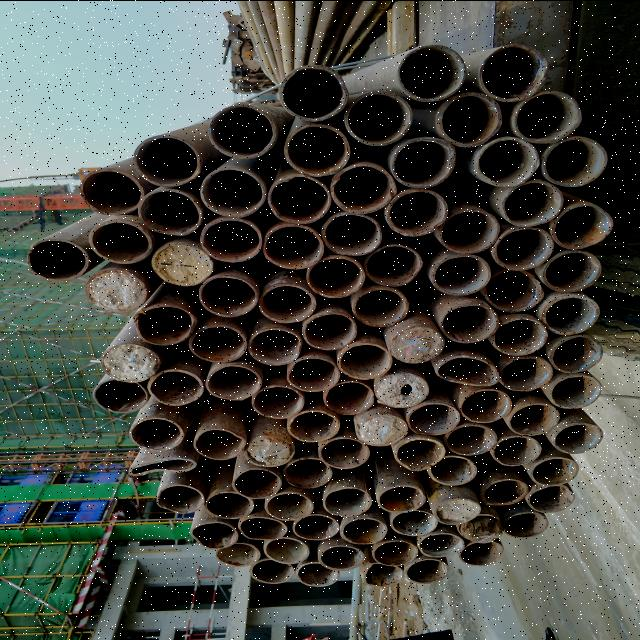pipe: (203, 101, 280, 157), (480, 41, 550, 102), (344, 90, 417, 146), (395, 44, 467, 98), (279, 62, 348, 118), (510, 90, 580, 144), (472, 133, 542, 187), (391, 133, 457, 190), (435, 92, 502, 147), (281, 122, 351, 174), (132, 132, 198, 186), (266, 172, 332, 224), (542, 134, 608, 186), (331, 162, 395, 214), (552, 200, 616, 250), (534, 253, 608, 295), (502, 176, 561, 228), (435, 209, 501, 255), (203, 167, 266, 214), (384, 187, 444, 236), (152, 242, 214, 288), (81, 168, 142, 214), (432, 251, 494, 296), (262, 224, 325, 268), (201, 217, 263, 261), (493, 224, 552, 270), (546, 328, 606, 373), (86, 266, 144, 312), (29, 238, 89, 282), (140, 188, 200, 232), (443, 298, 498, 345), (348, 286, 411, 326), (492, 316, 552, 358), (322, 212, 380, 255), (544, 370, 606, 410), (308, 253, 364, 297), (389, 322, 445, 366), (146, 366, 202, 410), (258, 282, 316, 324), (100, 341, 159, 382), (538, 294, 597, 334), (368, 243, 422, 286), (196, 274, 254, 314), (495, 355, 557, 392), (248, 323, 302, 365), (140, 302, 193, 344), (189, 322, 244, 362), (304, 310, 356, 352), (92, 375, 148, 414), (392, 433, 449, 471), (338, 341, 392, 381), (434, 352, 497, 386), (286, 405, 342, 443), (405, 397, 459, 435), (127, 454, 199, 482), (456, 386, 512, 422), (210, 360, 260, 400), (552, 417, 606, 454), (507, 400, 564, 435), (130, 412, 182, 450), (376, 368, 428, 406), (245, 431, 293, 469), (459, 506, 504, 546), (288, 353, 334, 392), (359, 410, 411, 444), (195, 426, 244, 462), (318, 382, 372, 414), (444, 422, 498, 454), (526, 481, 578, 514), (154, 481, 203, 516), (481, 471, 527, 508), (489, 436, 542, 468), (321, 484, 373, 516), (378, 481, 428, 514), (434, 492, 482, 526), (533, 454, 583, 486), (284, 456, 334, 488), (457, 538, 509, 568), (292, 510, 344, 540), (292, 558, 344, 588), (322, 435, 372, 466), (424, 454, 472, 486), (235, 466, 281, 498), (190, 518, 236, 550), (316, 544, 367, 572), (268, 491, 314, 522), (207, 488, 251, 520), (404, 555, 448, 587), (374, 538, 424, 566), (248, 556, 296, 585), (504, 508, 550, 538), (391, 508, 437, 538), (266, 534, 310, 564), (340, 518, 390, 544), (417, 529, 464, 556), (216, 540, 258, 566), (242, 518, 288, 540), (362, 561, 402, 586)
